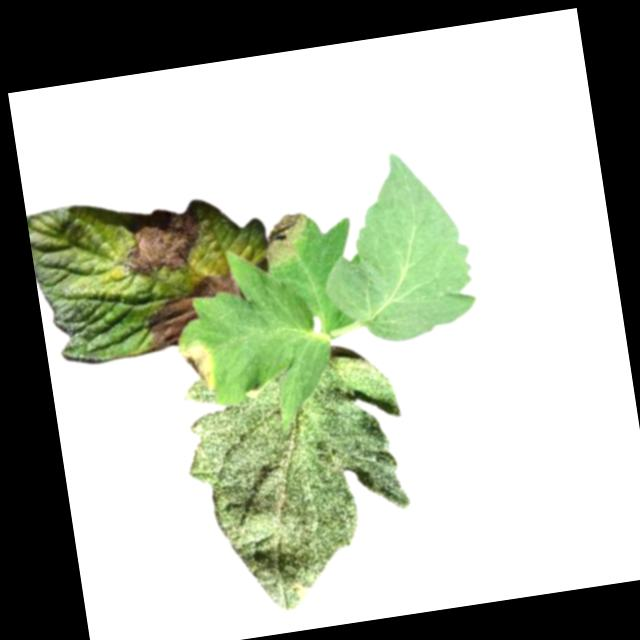Late_blight: (116, 208, 205, 277), (141, 295, 202, 352), (259, 209, 313, 271), (186, 266, 242, 305), (176, 340, 216, 394)
